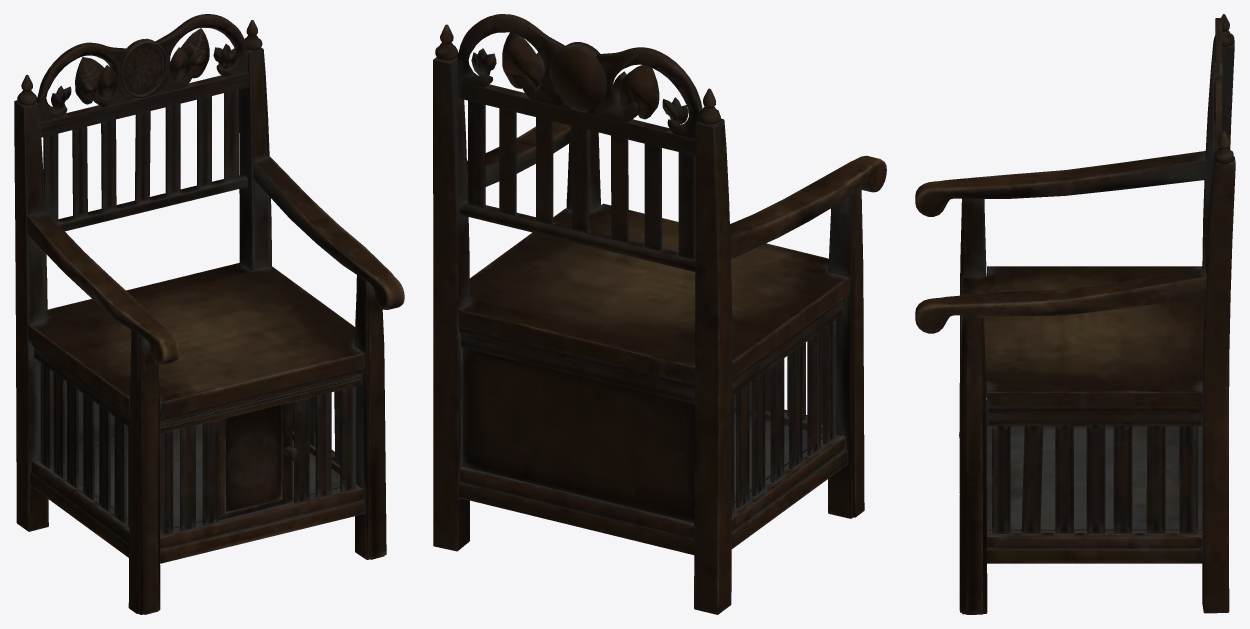
Rendered from cafe-chair.glb.
3 views of the same model, side by side, from view 1: azimuth 30°, elevation 25°; view 2: azimuth 150°, elevation 25°; view 3: azimuth 270°, elevation 25° (orthographic). The views are drawn at different scales.
Visible parts, largest first — view 1: gallinera_chair; view 2: gallinera_chair; view 3: gallinera_chair.
Boxes of the visible parts, x1,y1,x2,y2 form: gallinera_chair: (14, 14, 404, 614); gallinera_chair: (433, 14, 886, 614); gallinera_chair: (915, 14, 1235, 614).
Bounding box in the file's own units: 0.5804 × 1.03 × 0.6039.
Materials: 1 (1 with a texture image).
